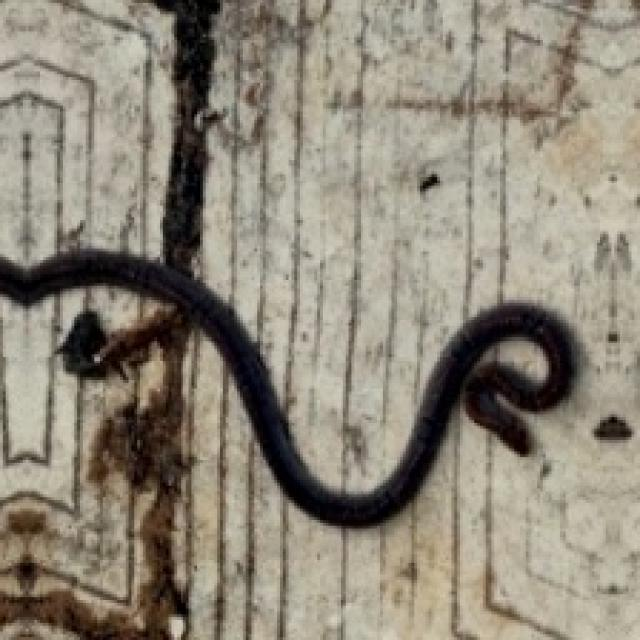northern short-headed snake: (0, 249, 574, 523)
